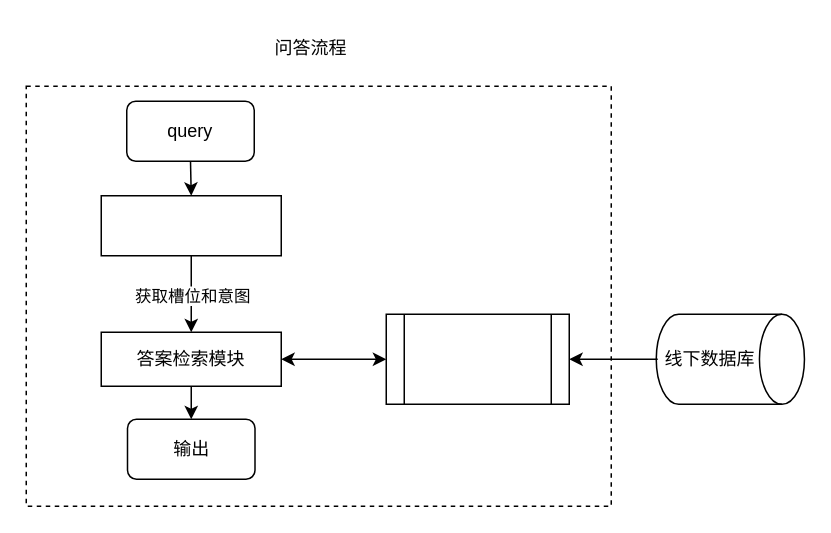
The diagram is 831 pixels wide and 533 high, and some of its shapes have lost their labels. Here are the shapes that lost their labels. From the top down, the centre of each, then its label:
the point at 190,225: 意图分类模块
the point at 477,358: GDB/Redis查询
